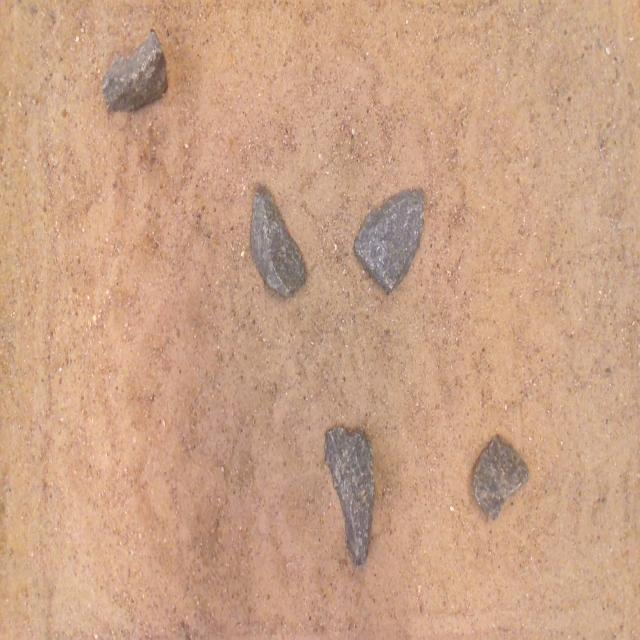rock: (354, 188, 423, 292), (325, 427, 374, 565), (251, 187, 305, 296), (102, 30, 167, 111), (472, 436, 528, 519)
